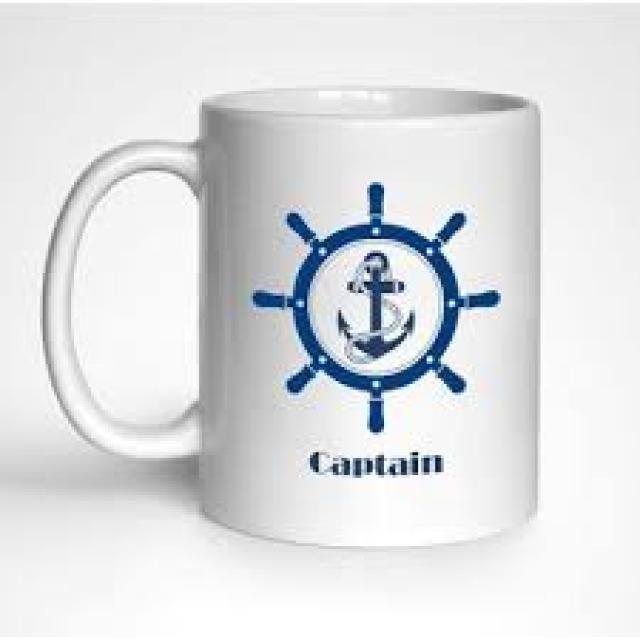taza: (40, 83, 542, 550)
